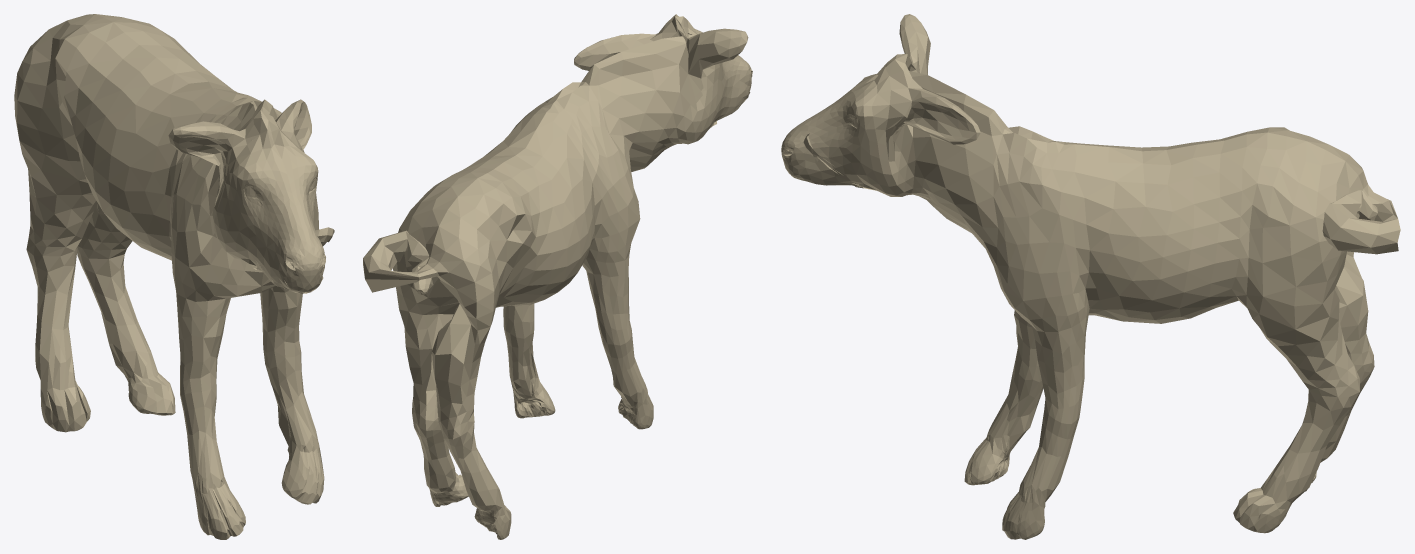
3 views of the same model, side by side, from view 1: azimuth 30°, elevation 25°; view 2: azimuth 150°, elevation 25°; view 3: azimuth 270°, elevation 25° (orthographic). The views are drawn at different scales.
Parts seen in each view (by area): view 1: world; view 2: world; view 3: world.
Boxes of the visible parts, box(x1,y1,x2,y2) form: world: box(14, 14, 334, 539); world: box(363, 14, 752, 539); world: box(781, 14, 1400, 539).
Bounding box in the file's own units: 0.6773 × 1.36 × 1.72.
